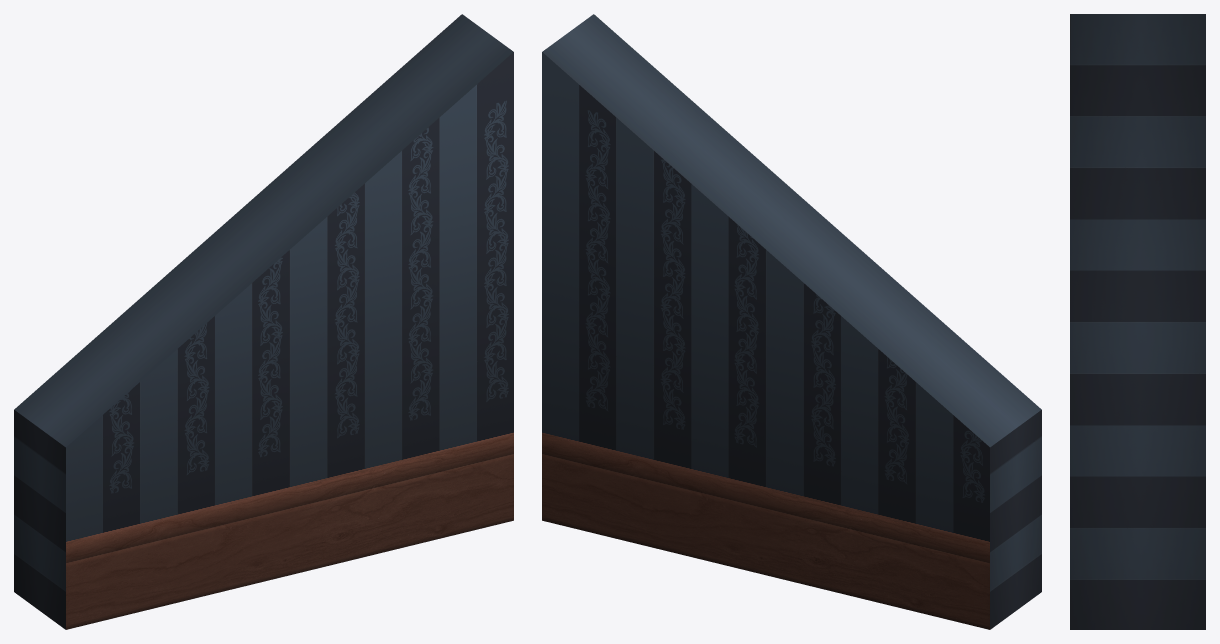
File: Wall_StairConnector.fbx
3 renders of one model, left to right at view 1: azimuth 30°, elevation 25°; view 2: azimuth 150°, elevation 25°; view 3: azimuth 270°, elevation 25°, orthographic. The views are drawn at different scales.
Visible parts, largest first — view 1: Wall_StairConnector; view 2: Wall_StairConnector; view 3: Wall_StairConnector.
Part boxes in pixels (x1,y1,x2,y2): Wall_StairConnector: (14, 14, 513, 629); Wall_StairConnector: (542, 14, 1041, 629); Wall_StairConnector: (1070, 14, 1205, 629).
Bounding box in the file's own units: 0.05 × 0.05 × 0.01.
